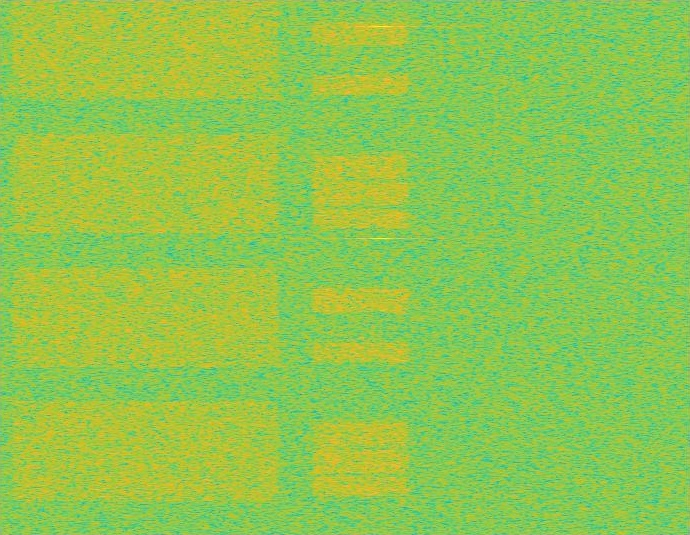5G: (8, 0, 284, 534)
LTE: (309, 0, 413, 534)
Radar: (374, 0, 388, 534)
